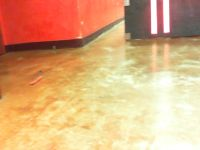switch: (150, 1, 157, 34), (162, 1, 169, 33)
